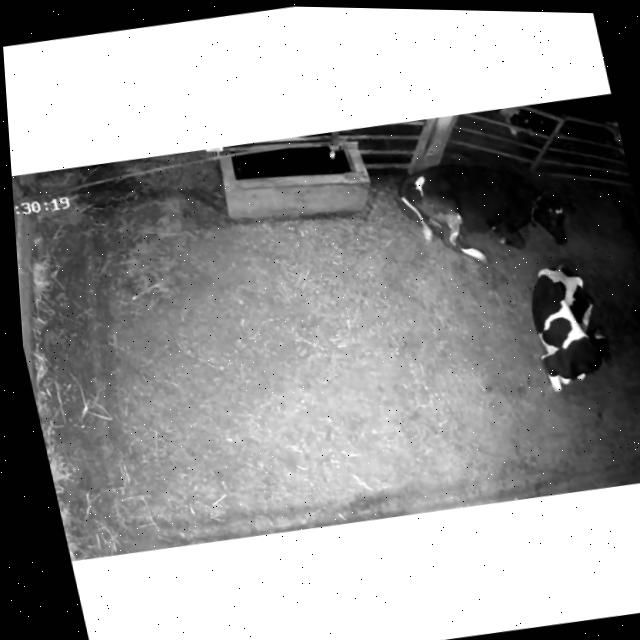lay: (380, 135, 607, 280), (504, 245, 634, 414)
